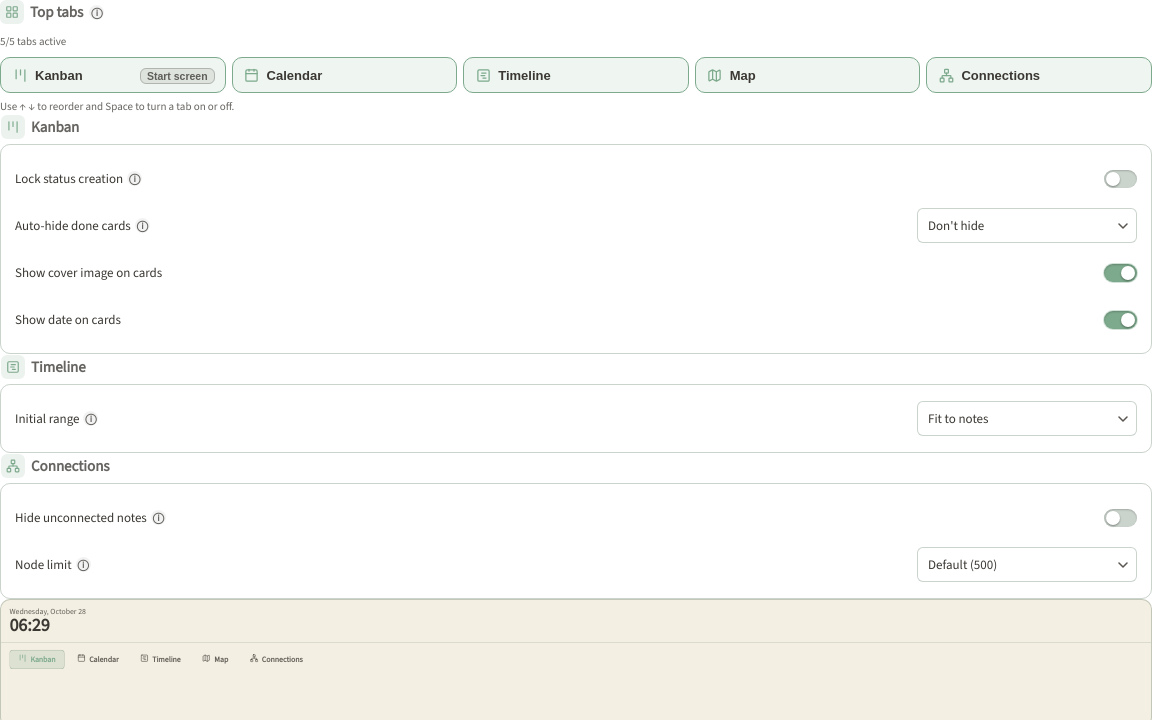
Test: DashboardTabsSection (W7 §7.3 / W23-a) › 켜진 탭의 하위 설정 카드만 펼쳐진다 (칸반), 꺼지면 사라진다 — 달력 시간축은 달력 및 일정에만
Expected: the element with test id "settings-dashboard-board-group" is shown, [0,144,1151,354]
Expected: the switch with test id "settings-status-add-locked" is shown, [1104,170,1137,188]
Click the button with test id "dashboard-tabs-item-board" at (113, 75), box [0,57,226,93]
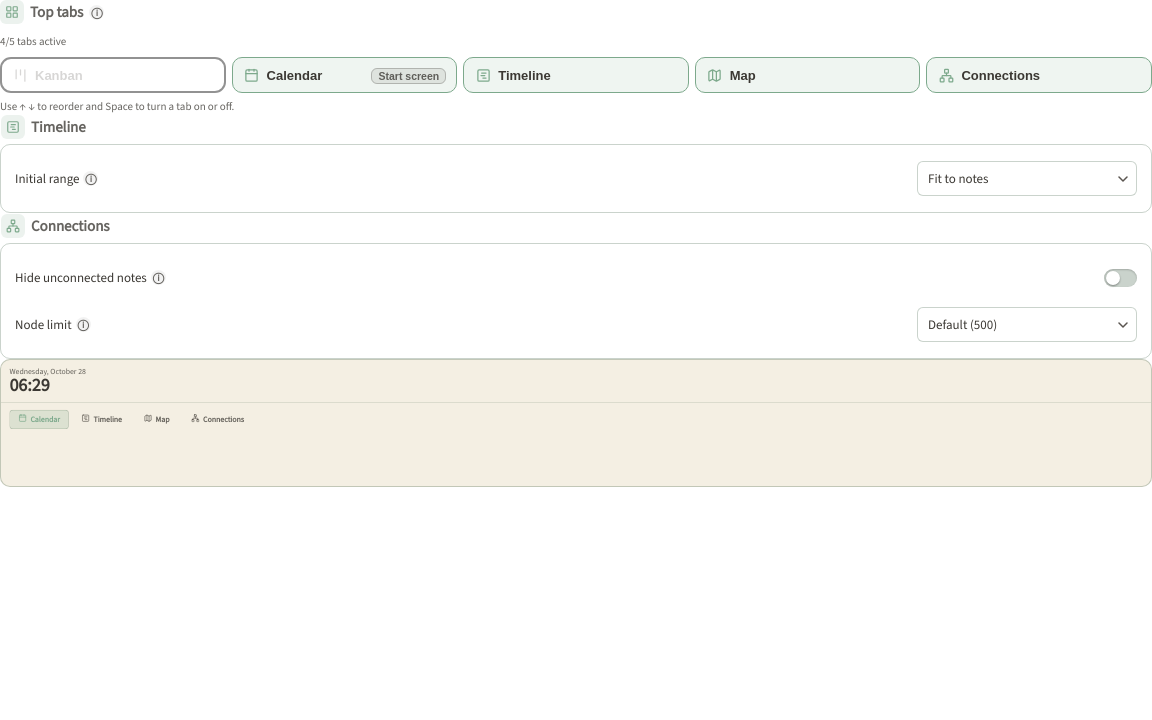
Now the element with test id "settings-dashboard-board-group" is gone
